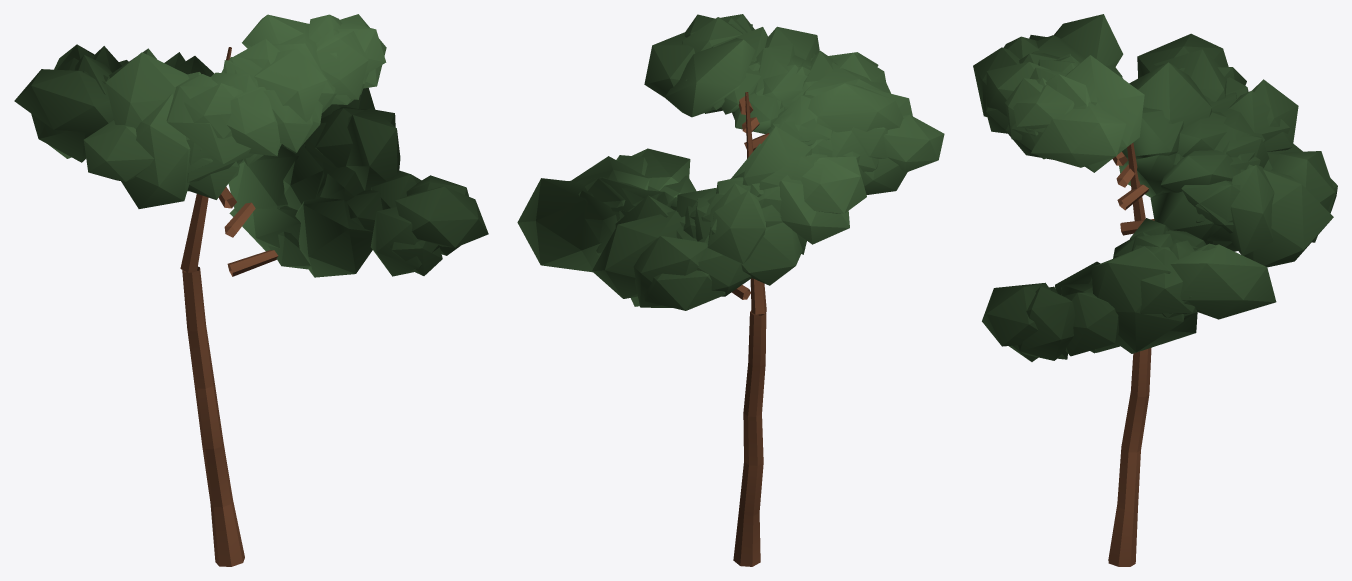
The model's file is tree_pine.glb.
3 renders of one model, left to right at view 1: azimuth 30°, elevation 25°; view 2: azimuth 150°, elevation 25°; view 3: azimuth 270°, elevation 25°, orthographic. The views are drawn at different scales.
Parts seen in each view (by area): view 1: tree_pine; view 2: tree_pine; view 3: tree_pine.
Part boxes in pixels (x1,y1,x2,y2): tree_pine: (14, 14, 488, 566); tree_pine: (517, 14, 944, 566); tree_pine: (973, 14, 1337, 566).
Size of the model in its own units: 7 by 9.96 by 6.34.
